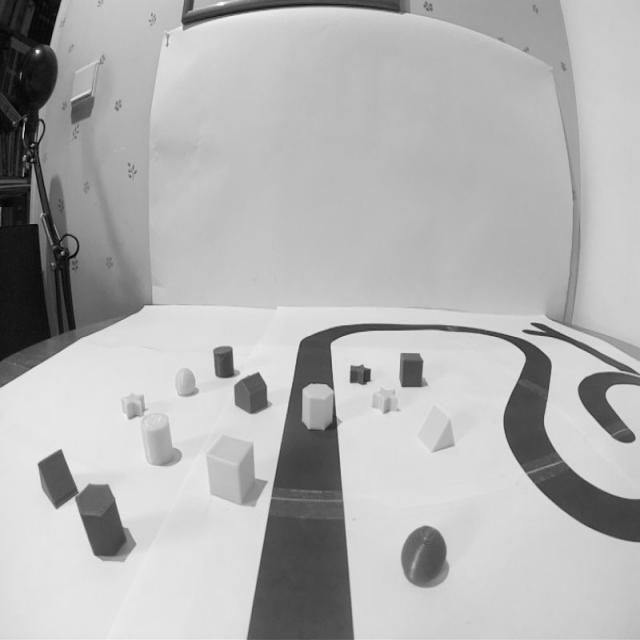ball: (398, 524, 449, 590), (172, 362, 198, 400)
cube: (202, 432, 259, 509), (398, 347, 425, 392)
cylinder: (139, 408, 177, 472), (210, 340, 236, 382)
hexagon: (74, 481, 128, 560), (300, 379, 338, 434)
home: (230, 369, 271, 418)
lineStraight: (237, 479, 367, 640)
star: (369, 384, 401, 418), (119, 389, 148, 423), (346, 361, 375, 389)
triangle: (35, 444, 79, 510), (417, 399, 458, 458)
